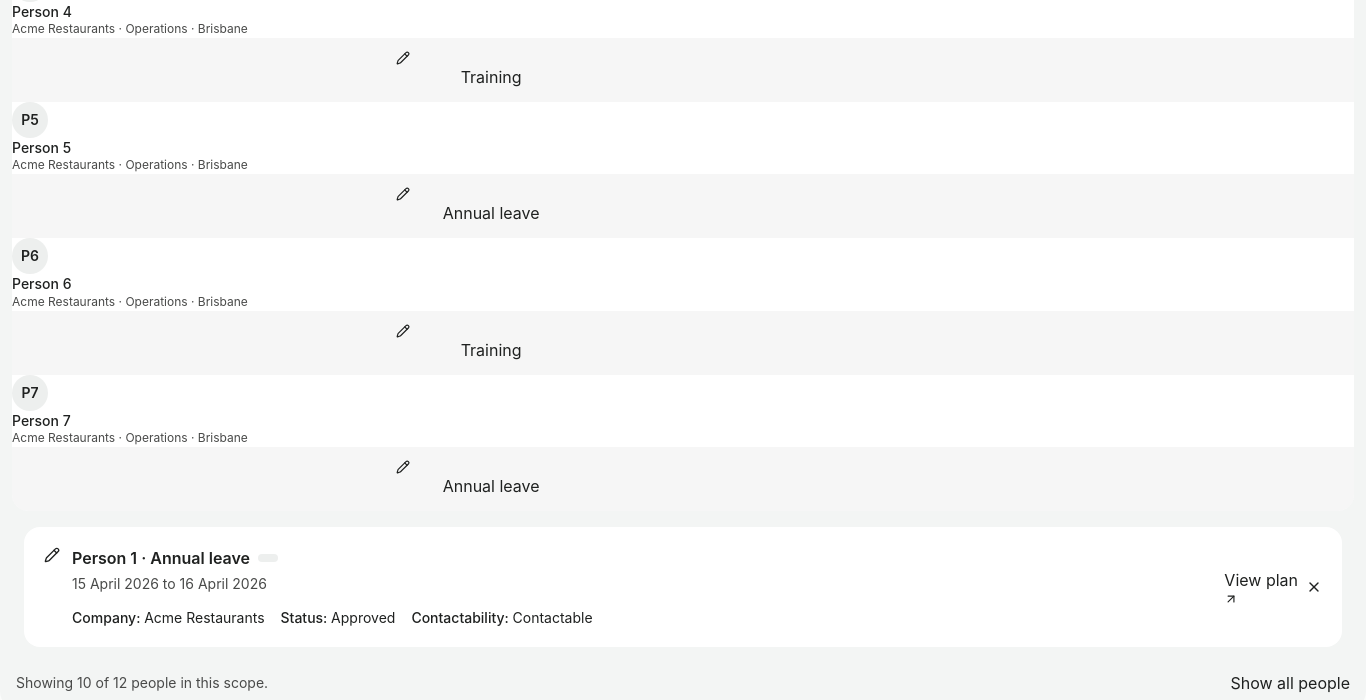
Test case: CalendarTimeline › caps the initial lane set and lets the viewer reveal everyone
The image size is (1366, 700).
(page scrolled)
Check: the text "Showing 10 of 12 people in this scope." is shown, box [16,672,268,695]
Click the button "Show all people".
click(1290, 683)  # box [1230,671,1350,695]
(page scrolled)
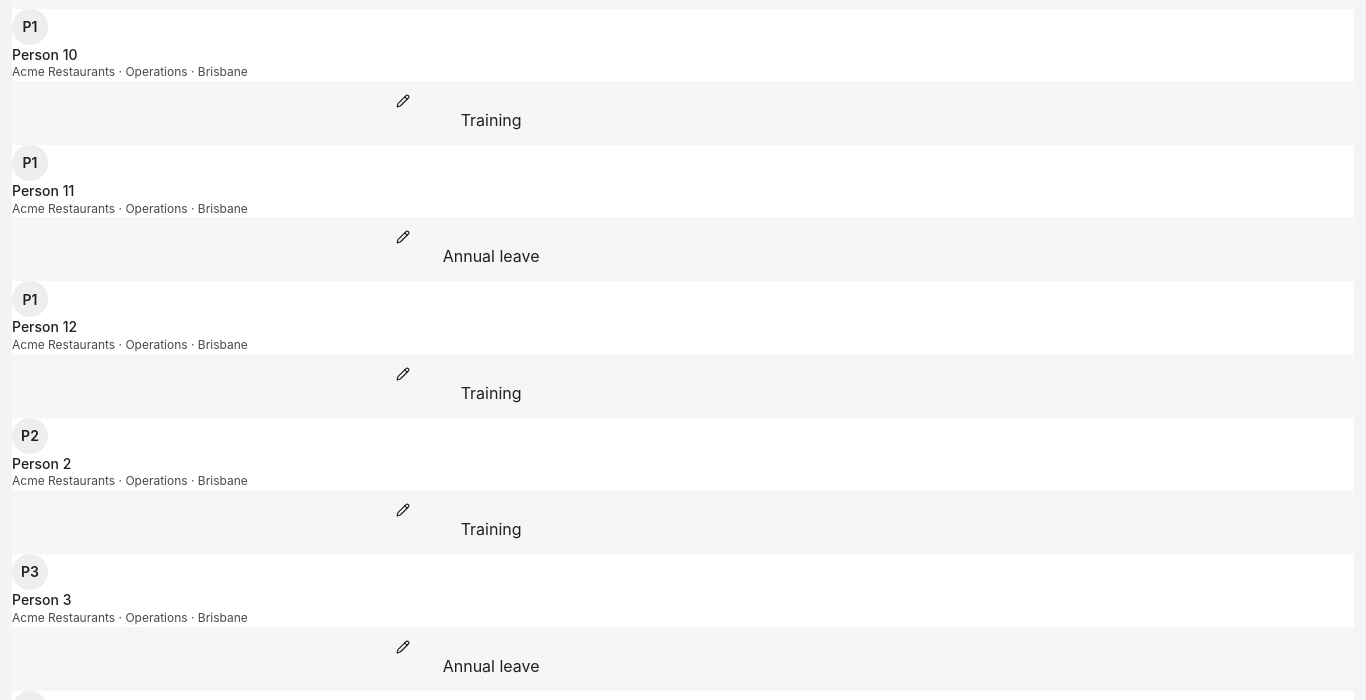
Check: the text "Person 12" is shown, box [12,318,77,335]
Check: the text "Showing 10 of 12 people in this scope" is gone
